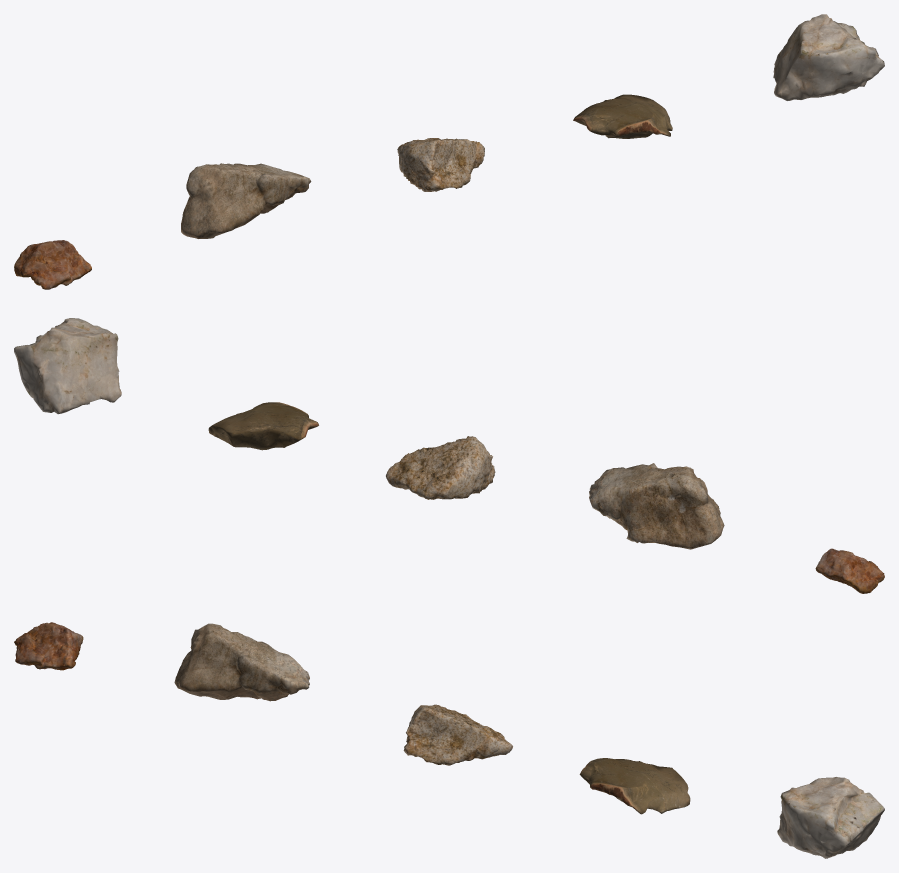
The model's file is prop_rock_g.glb.
The picture shows the model from 3 angles, top to bottom: view 1: azimuth 30°, elevation 25°; view 2: azimuth 150°, elevation 25°; view 3: azimuth 330°, elevation 25°; orthographic projection.
Visible parts, largest first — view 1: namaqualand_stones_01_e, namaqualand_stones_01_b, namaqualand_stones_01_c, namaqualand_stones_01_d, namaqualand_stones_01_a; view 2: namaqualand_stones_01_b, namaqualand_stones_01_e, namaqualand_stones_01_c, namaqualand_stones_01_d, namaqualand_stones_01_a; view 3: namaqualand_stones_01_b, namaqualand_stones_01_e, namaqualand_stones_01_c, namaqualand_stones_01_d, namaqualand_stones_01_a.
Part boxes in pixels (left/top/right/bottom): namaqualand_stones_01_e: left=773, top=14, right=884, bottom=100; namaqualand_stones_01_b: left=181, top=163, right=311, bottom=238; namaqualand_stones_01_c: left=397, top=138, right=484, bottom=191; namaqualand_stones_01_d: left=573, top=94, right=672, bottom=138; namaqualand_stones_01_a: left=14, top=240, right=91, bottom=289; namaqualand_stones_01_b: left=589, top=463, right=724, bottom=549; namaqualand_stones_01_e: left=14, top=318, right=121, bottom=414; namaqualand_stones_01_c: left=386, top=436, right=495, bottom=499; namaqualand_stones_01_d: left=208, top=402, right=318, bottom=450; namaqualand_stones_01_a: left=815, top=548, right=884, bottom=593; namaqualand_stones_01_b: left=174, top=623, right=309, bottom=701; namaqualand_stones_01_e: left=777, top=777, right=884, bottom=858; namaqualand_stones_01_c: left=403, top=704, right=512, bottom=765; namaqualand_stones_01_d: left=579, top=758, right=690, bottom=814; namaqualand_stones_01_a: left=14, top=622, right=83, bottom=670.
Size of the model in its own units: 1.02 by 0.0843 by 0.112.
Materials: 1 (1 with a texture image).
